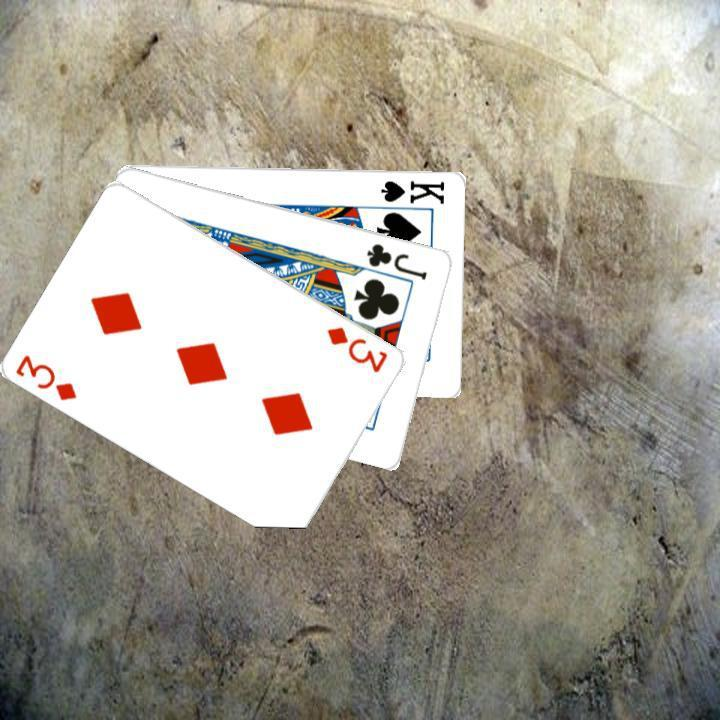3: (322, 322, 391, 375), (11, 350, 79, 403)
J: (363, 238, 430, 282)
K: (376, 175, 448, 205)
